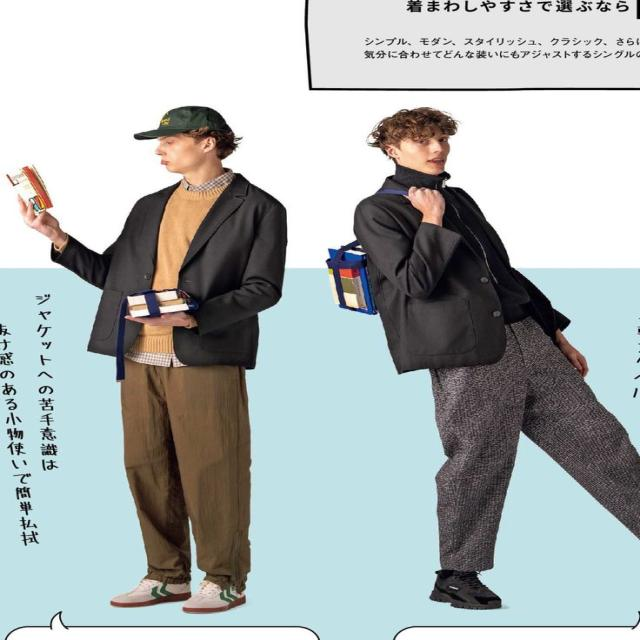person: (352, 106, 639, 610), (15, 105, 288, 613)
